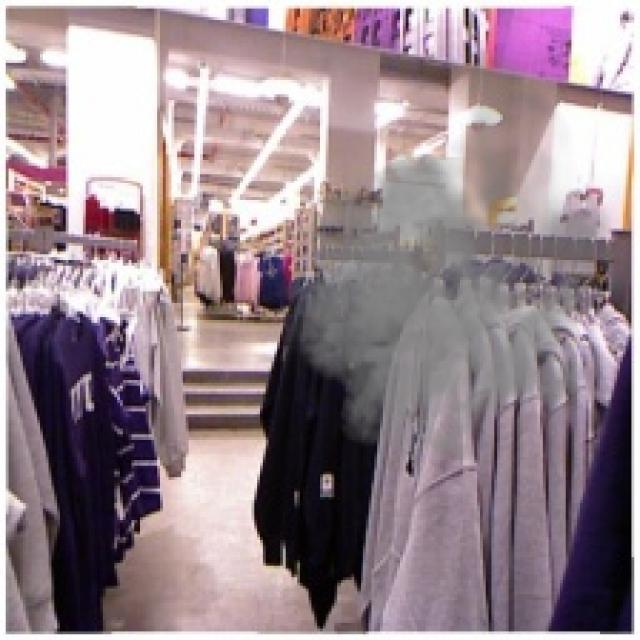smoke: (274, 43, 620, 468)
